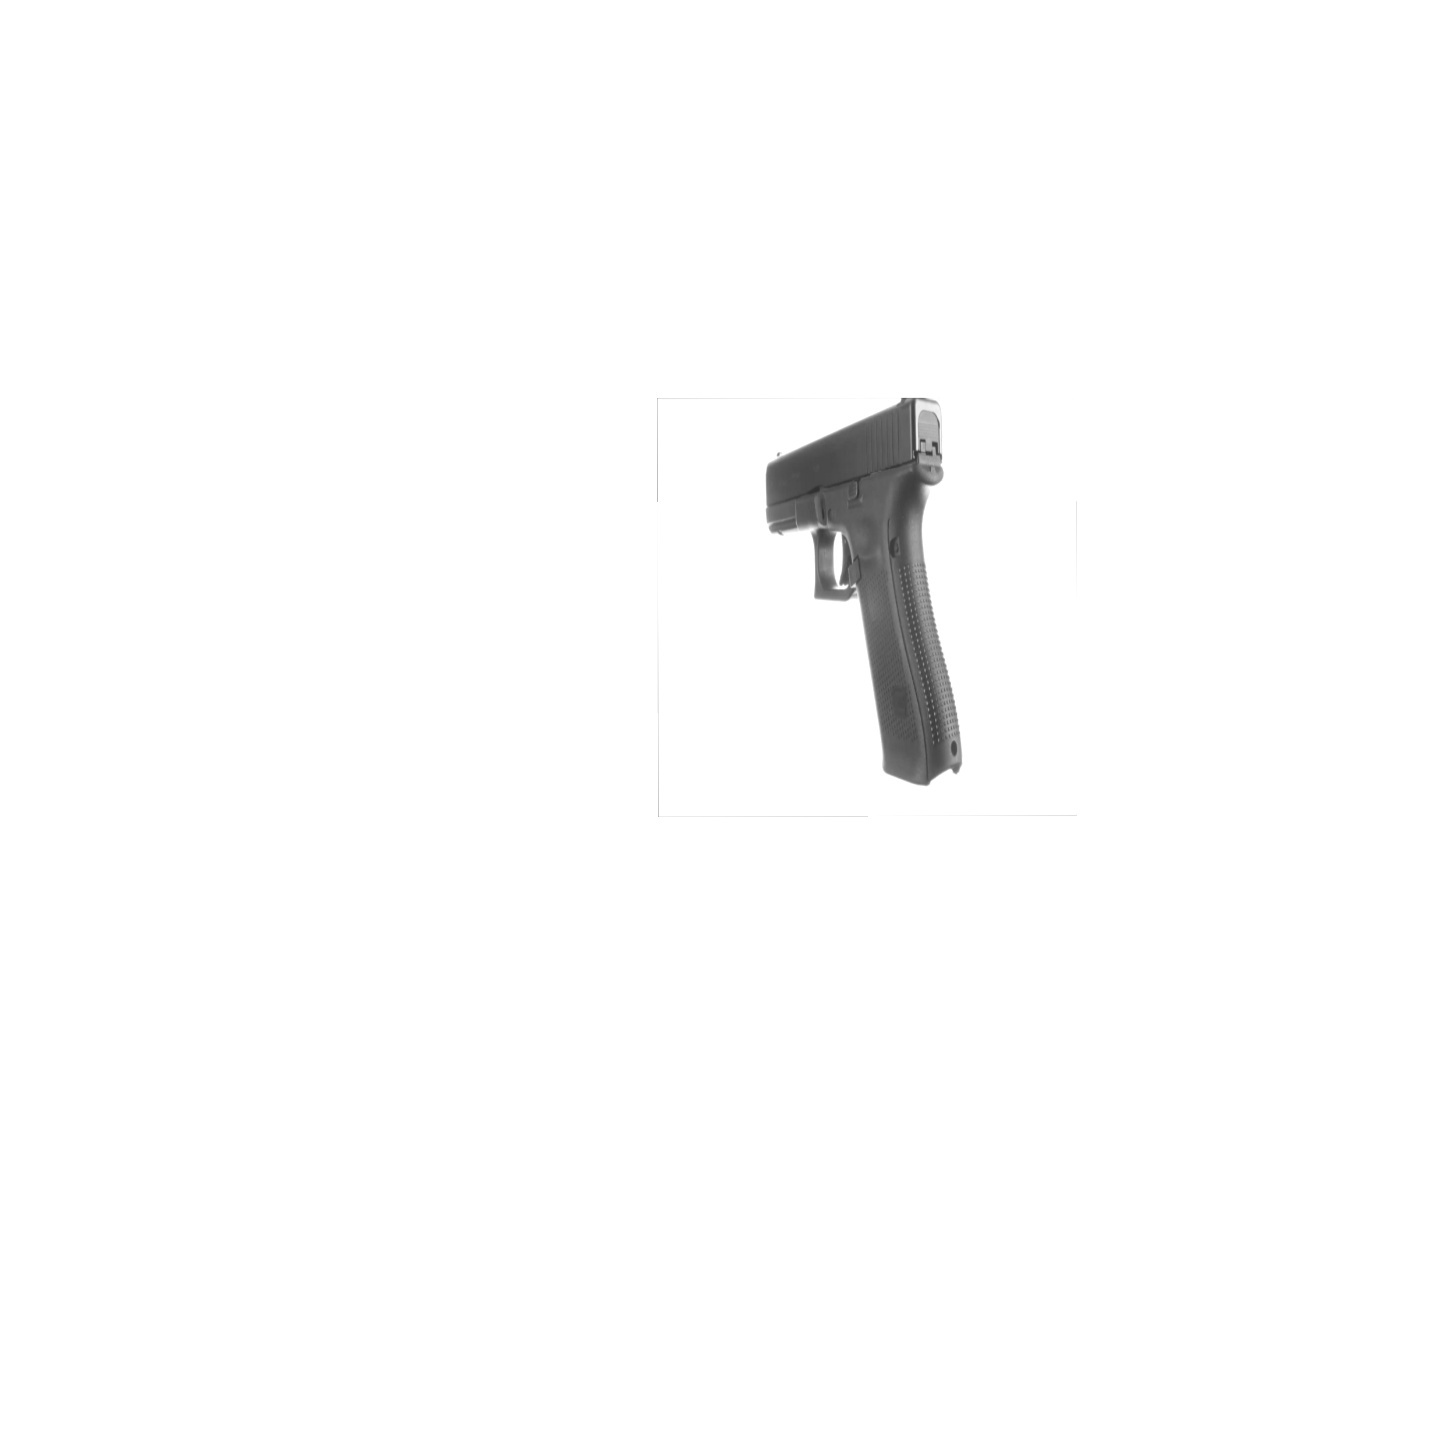gun: (752, 392, 994, 791)
